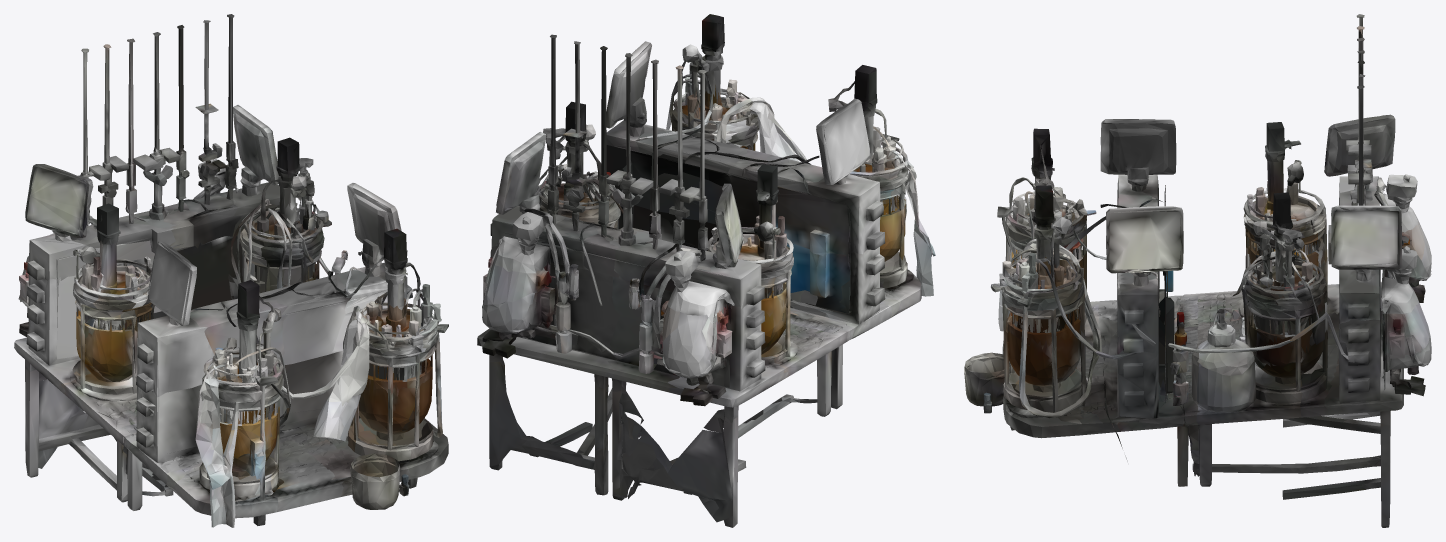
Rendered from technology-12.glb.
3 renders of one model, left to right at view 1: azimuth 30°, elevation 25°; view 2: azimuth 150°, elevation 25°; view 3: azimuth 270°, elevation 25°, orthographic. The views are drawn at different scales.
Visible parts, largest first — view 1: tmpjgsclz3_.obj; view 2: tmpjgsclz3_.obj; view 3: tmpjgsclz3_.obj.
Boxes of the visible parts, box(x1,y1,x2,y2) form: tmpjgsclz3_.obj: box(14, 14, 448, 527); tmpjgsclz3_.obj: box(477, 14, 935, 527); tmpjgsclz3_.obj: box(964, 14, 1431, 527).
Bounding box in the file's own units: 0.944 × 1.43 × 1.44.
Materials: 1 (1 with a texture image).
